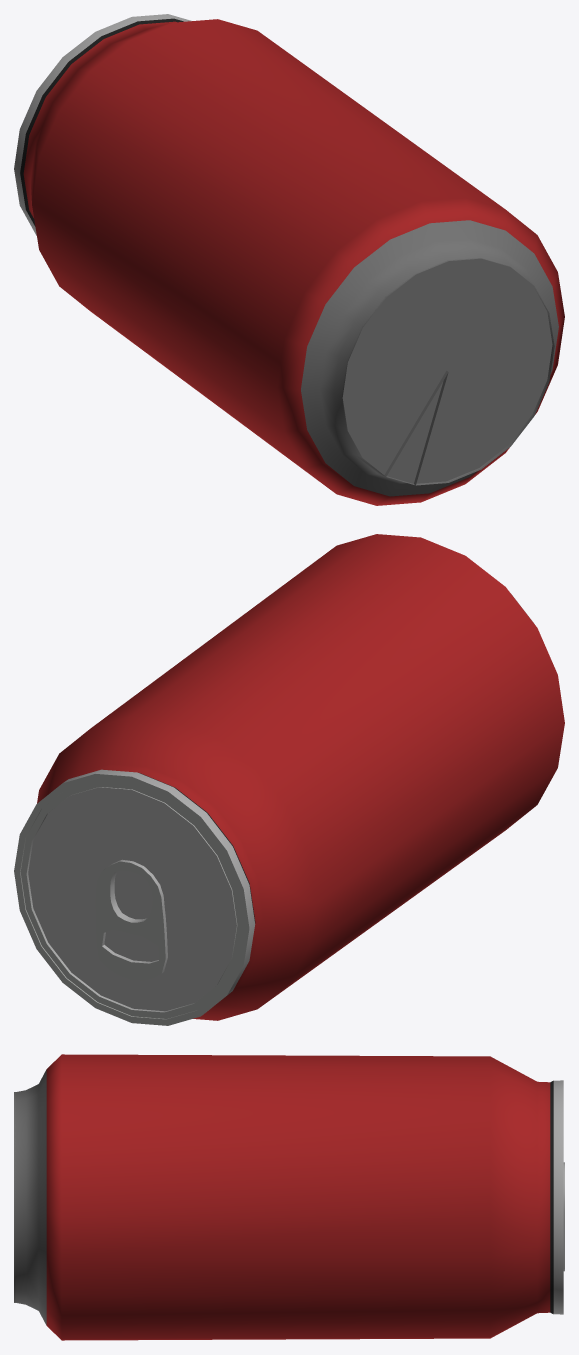
The model's file is blimp_body_cola_v2.dae.
The picture shows the model from 3 angles, top to bottom: view 1: azimuth 30°, elevation 25°; view 2: azimuth 150°, elevation 25°; view 3: azimuth 270°, elevation 25°; orthographic projection. The views are drawn at different scales.
Parts seen in each view (by area): view 1: pCylinder1; view 2: pCylinder1; view 3: pCylinder1.
Boxes of the visible parts, x1,y1,x2,y2 form: pCylinder1: (14,14,564,505); pCylinder1: (14,534,564,1025); pCylinder1: (14,1054,564,1340).
Bounding box in the file's own units: 0.0666 × 0.1274 × 0.0666.
